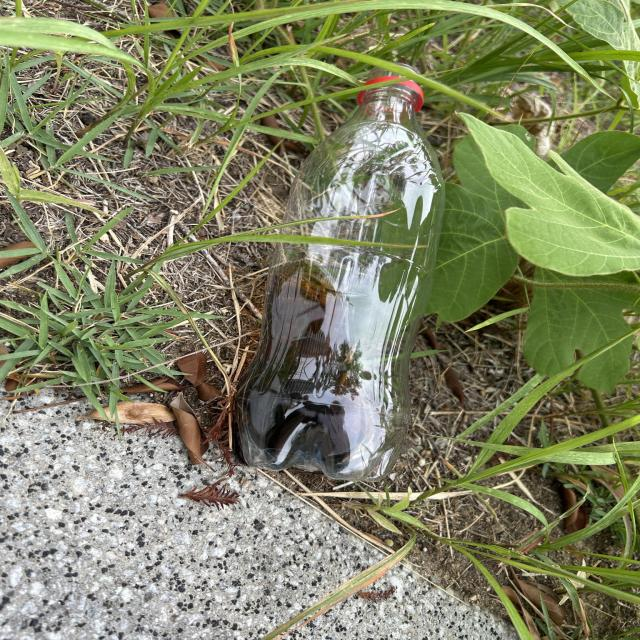low: (235, 64, 445, 480)
